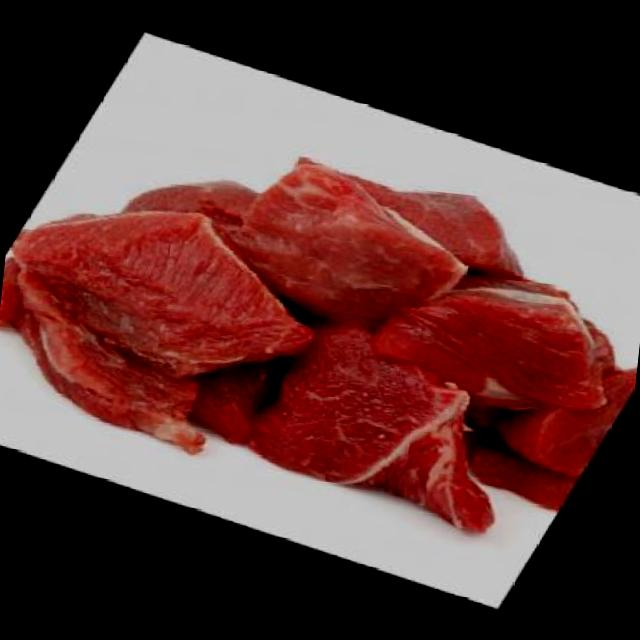beef: (0, 68, 640, 575)
